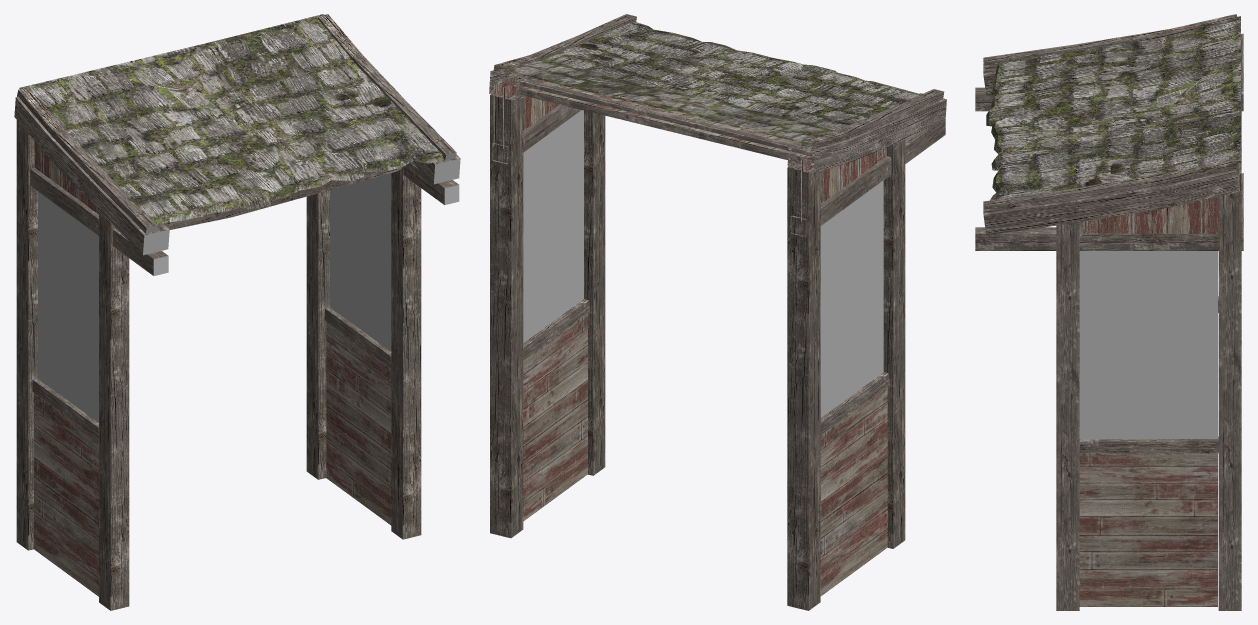
Rendered from Shed3.fbx.
The picture shows the model from 3 angles, left to right: view 1: azimuth 30°, elevation 25°; view 2: azimuth 150°, elevation 25°; view 3: azimuth 270°, elevation 25°; orthographic projection. The views are drawn at different scales.
Parts seen in each view (by area): view 1: polySurface220; view 2: polySurface220; view 3: polySurface220.
Part boxes in pixels (<box>): polySurface220: <box>14,14,460,610</box>; polySurface220: <box>489,14,946,610</box>; polySurface220: <box>975,14,1243,610</box>.
Size of the model in its own units: 2.91 by 4 by 2.17.
